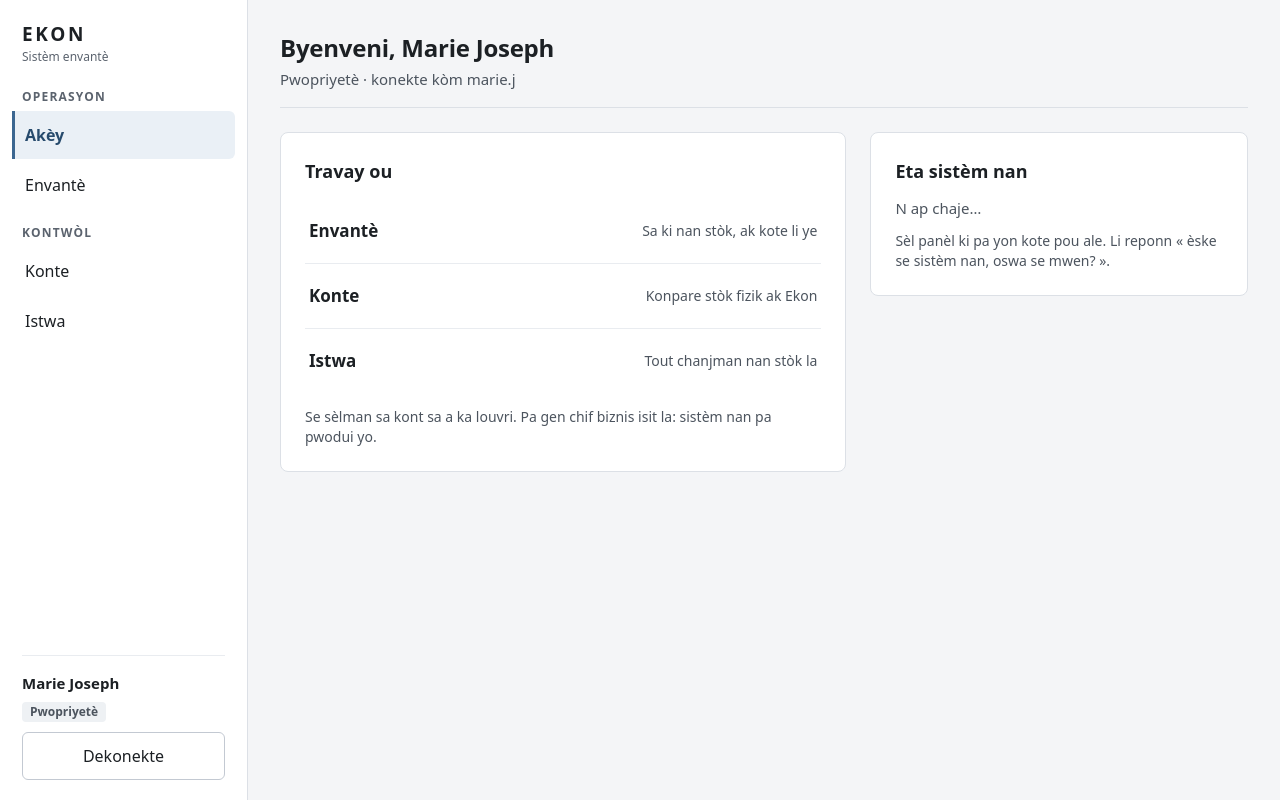
Test: what the dialog says › says the original stays in history
Click the button "Istwa" at (124, 320), box top-left (12, 296), bottom-right (235, 344)
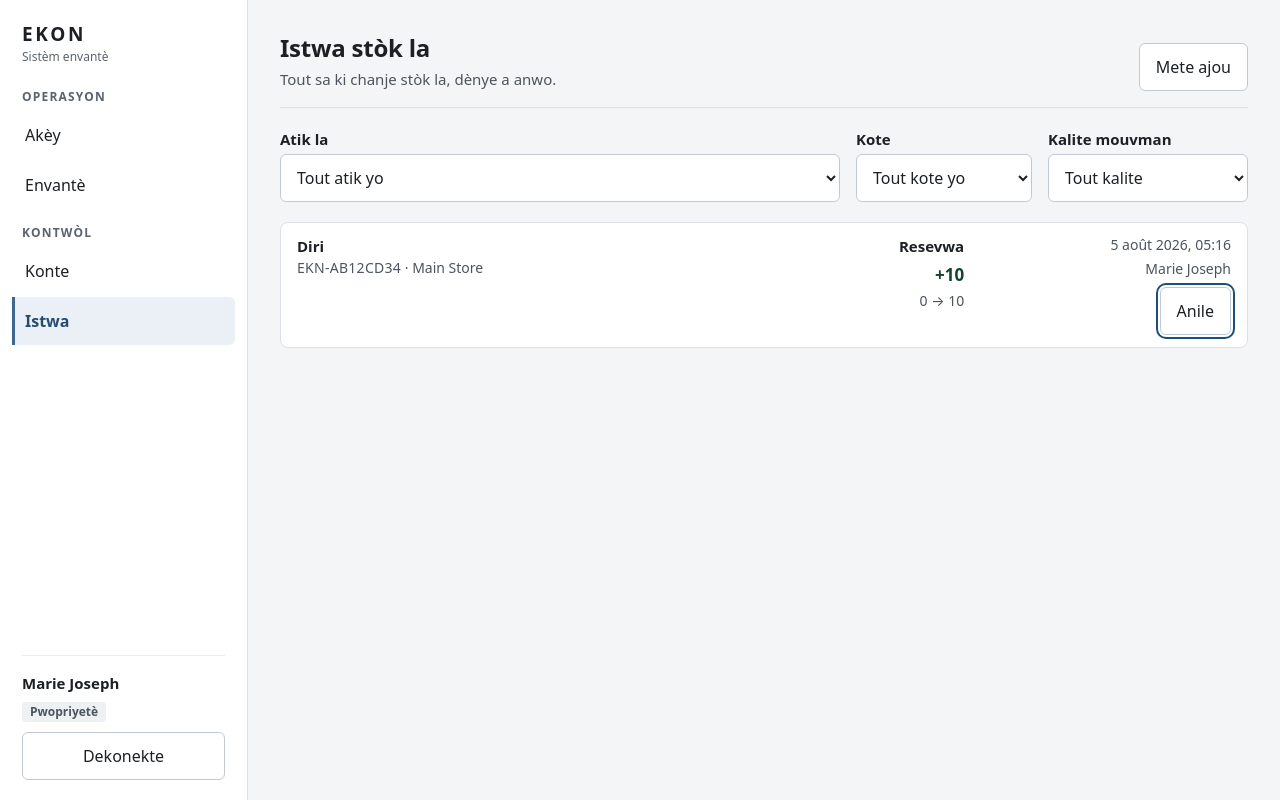
Check: the heading "Istwa stòk la" is shown, box top-left (280, 31), bottom-right (430, 64)
Click the button "Anile" at (1195, 311), box top-left (1160, 287), bottom-right (1231, 335)
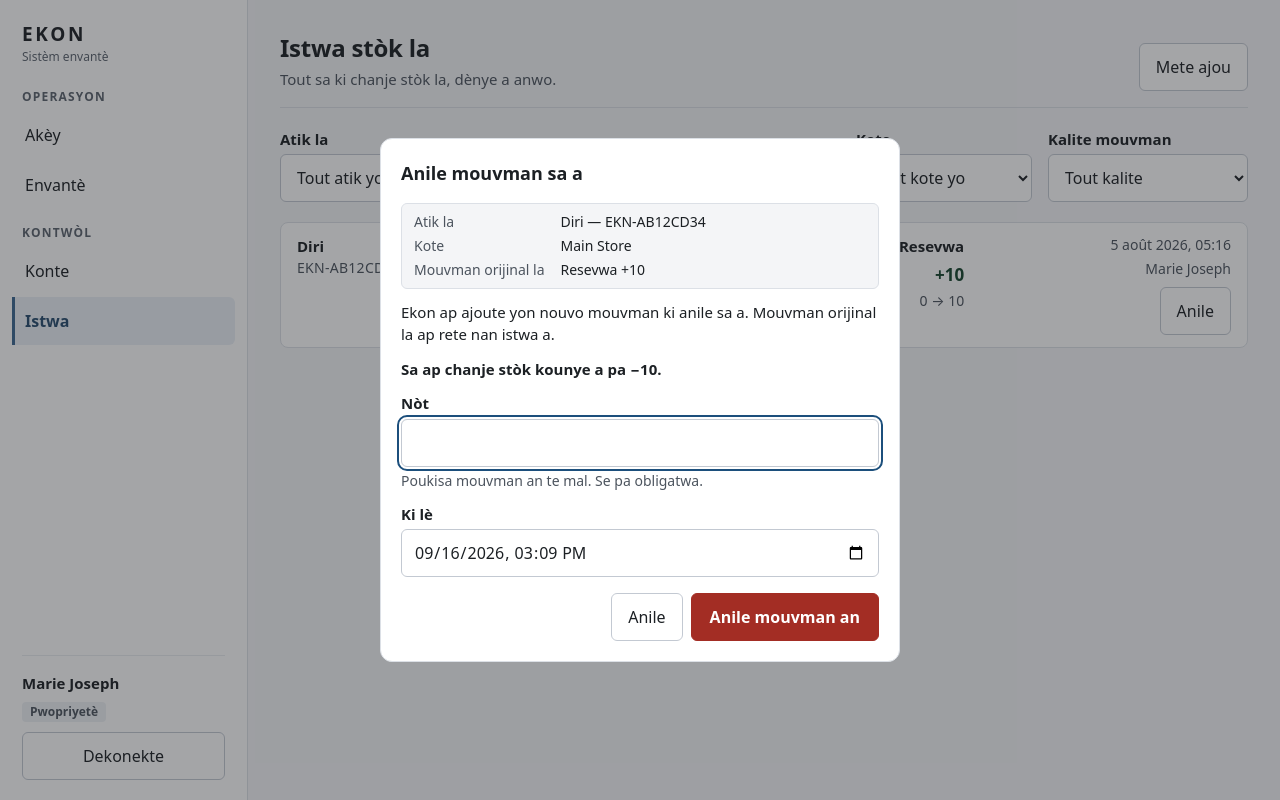
Check: the dialog is shown, box top-left (380, 138), bottom-right (900, 662)
Check: the text "Ekon ap ajoute yon nouvo mouvman ki anile sa a. Mouvman orijinal la ap rete nan istwa a." is shown, box top-left (401, 302), bottom-right (876, 344)
